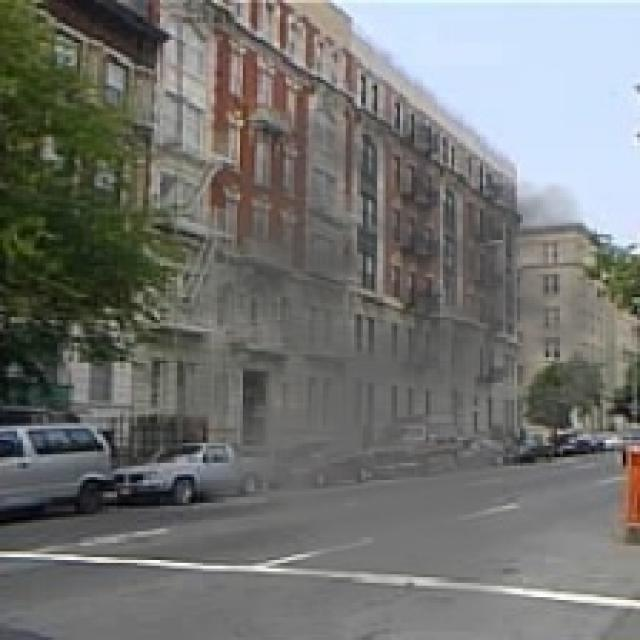smoke: (106, 103, 637, 631)
